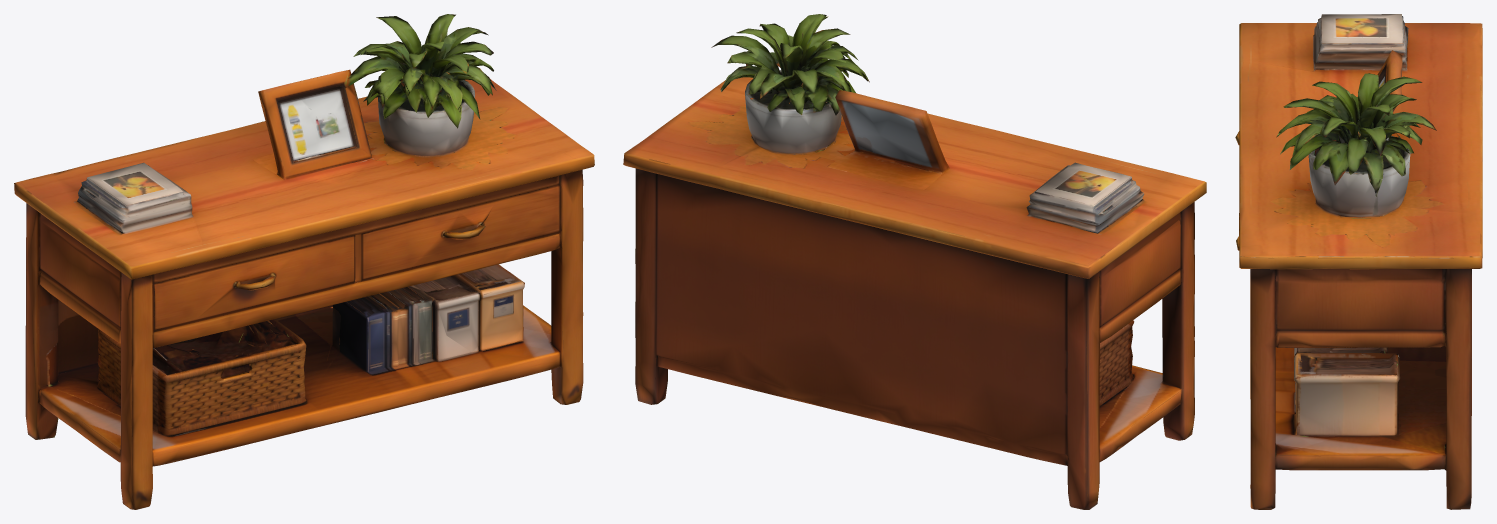
File: Meshy_AI_Cozy_Console_Charm_0108003426_texture.fbx
3 renders of one model, left to right at view 1: azimuth 30°, elevation 25°; view 2: azimuth 150°, elevation 25°; view 3: azimuth 270°, elevation 25°, orthographic. The views are drawn at different scales.
Visible parts, largest first — view 1: Mesh_0; view 2: Mesh_0; view 3: Mesh_0.
Part boxes in pixels (box(x1,y1,x2,y2)): Mesh_0: box(14, 14, 594, 509); Mesh_0: box(623, 14, 1206, 509); Mesh_0: box(1235, 14, 1482, 509).
Size of the model in its own units: 191 by 141 by 85.22.
Materials: 1 (1 with a texture image).
